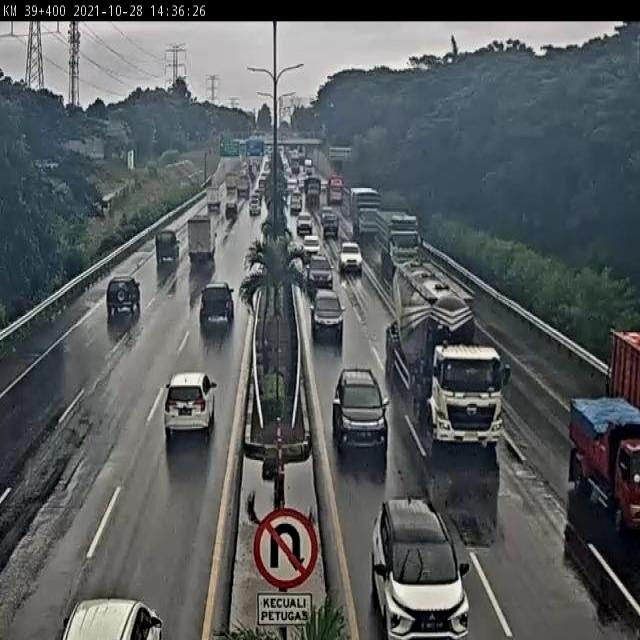Car: (370, 496, 471, 638), (332, 367, 389, 460), (57, 597, 164, 638), (163, 374, 218, 443), (310, 288, 345, 344), (199, 281, 237, 332), (106, 276, 141, 316), (306, 253, 334, 293), (155, 230, 180, 266), (338, 242, 362, 276), (302, 234, 322, 263), (320, 207, 339, 236), (296, 212, 313, 236), (225, 197, 237, 219), (249, 195, 261, 216), (290, 192, 302, 213), (286, 178, 296, 195)
Truck: (386, 261, 509, 447), (569, 393, 640, 524), (377, 211, 422, 265), (350, 187, 381, 238), (186, 214, 217, 260)
